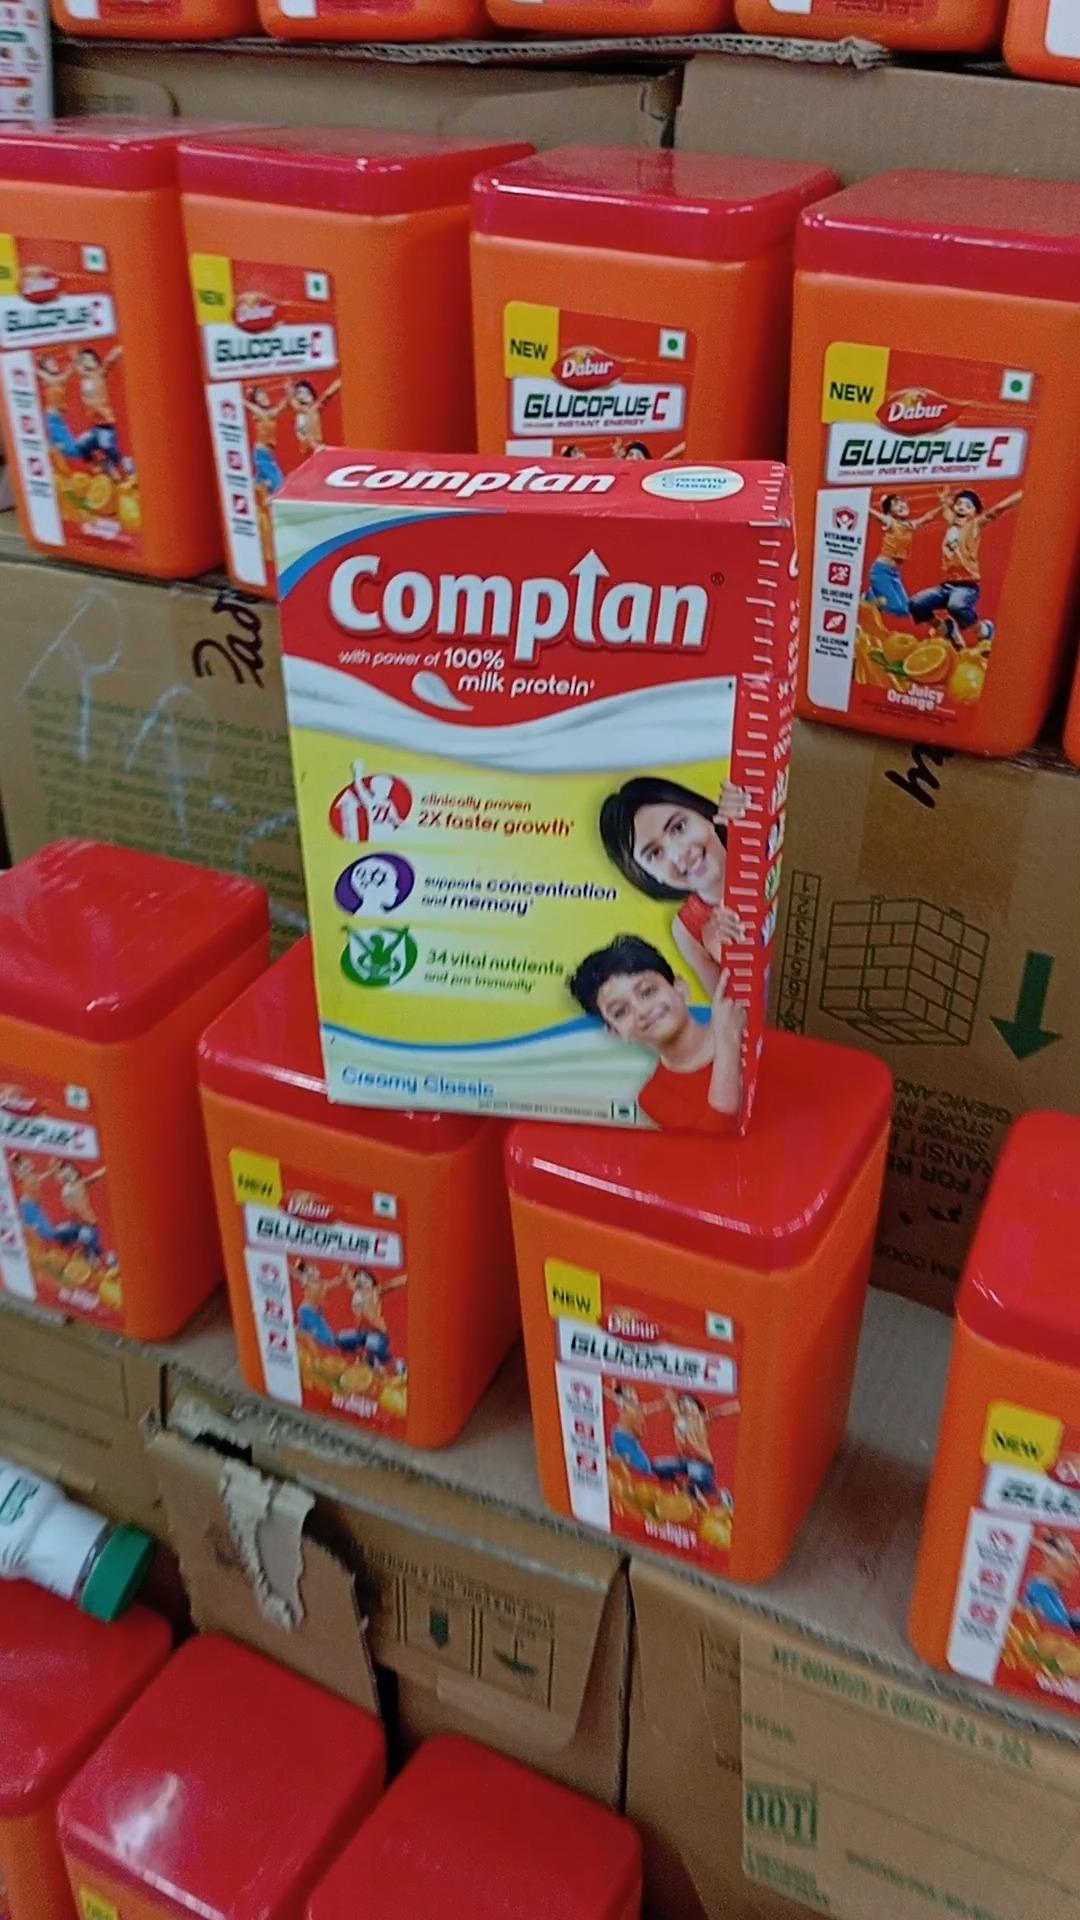COMPLAN_CREAMY_CLASSIC_500_G_PACK: (286, 496, 753, 1130)
